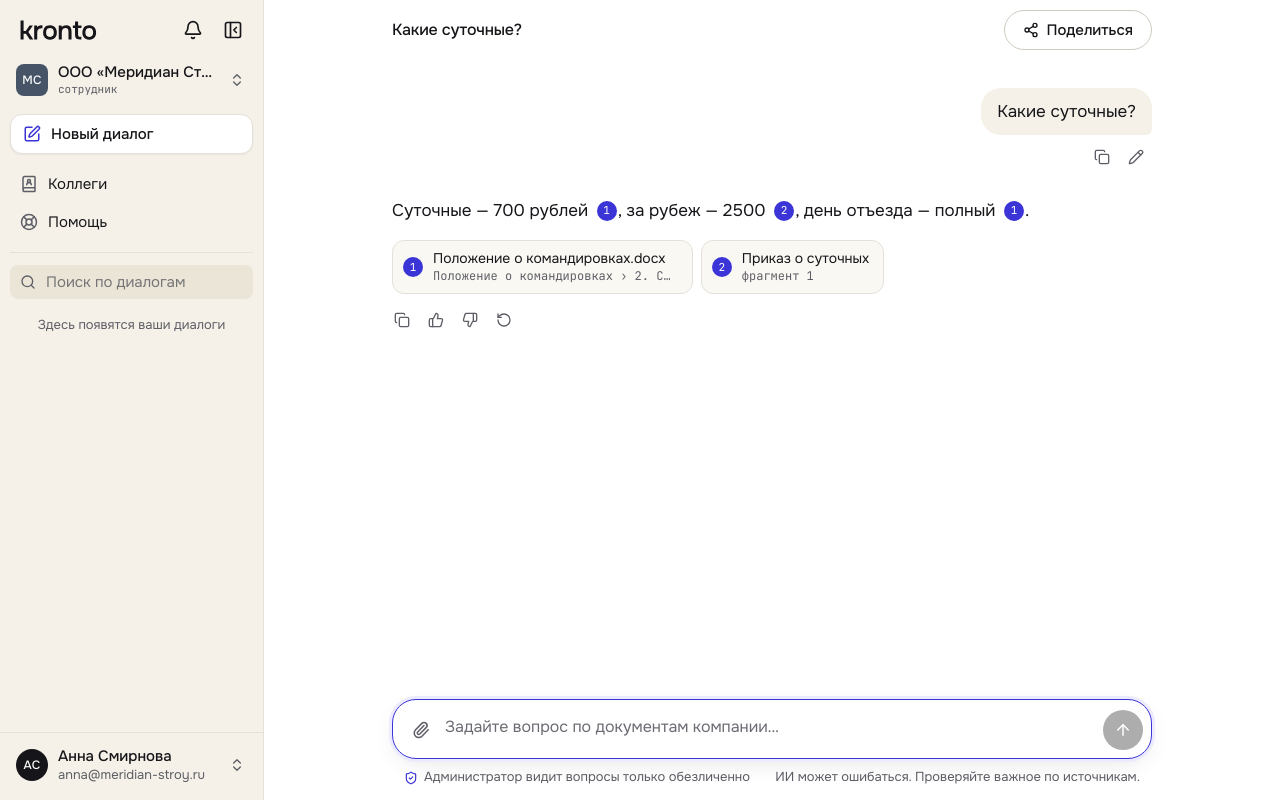
Test: новый диалог › фрагменты одного раздела — одна карточка, в панели оба
Click the button named "Источник 1: Положение о командировках.docx" at [1014, 211], box [1004, 201, 1024, 221]
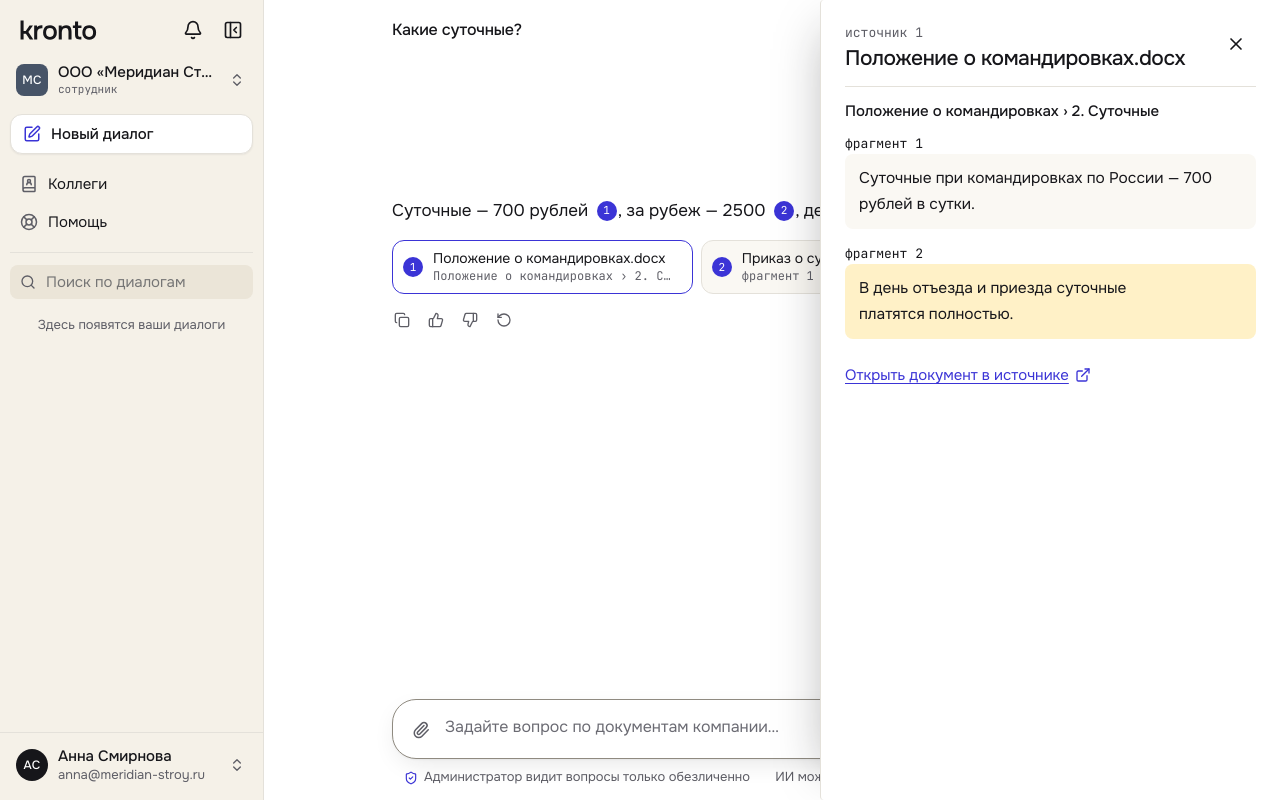
Expected: the text "источник 1" is shown, [845, 24, 923, 41]
Expected: the 1st text "фрагмент 1" is shown, [845, 135, 923, 152]
Expected: the text "фрагмент 2" is shown, [845, 245, 923, 262]
